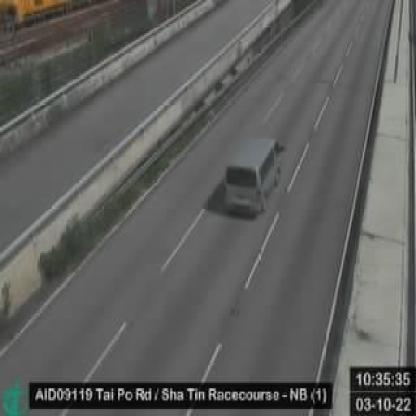Car: (222, 137, 282, 213)
